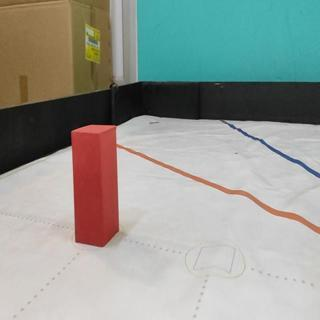redbox: (71, 124, 120, 248)
